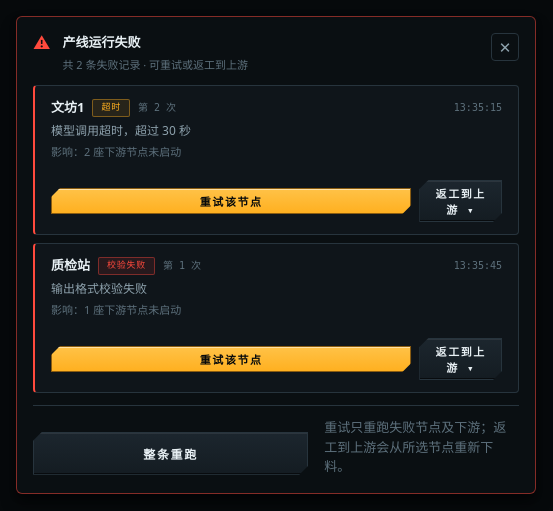
FailurePanel › 返工到上游 › 点击'返工到上游'展开下拉菜单
This screenshot has width=553, height=511.
What coordinates should you click on to do the following:
click the button "返工到上游 ▾" below "影响：2 座下游节点未启动"
I would click on:
 (461, 201)
Its box is [419, 180, 502, 222].
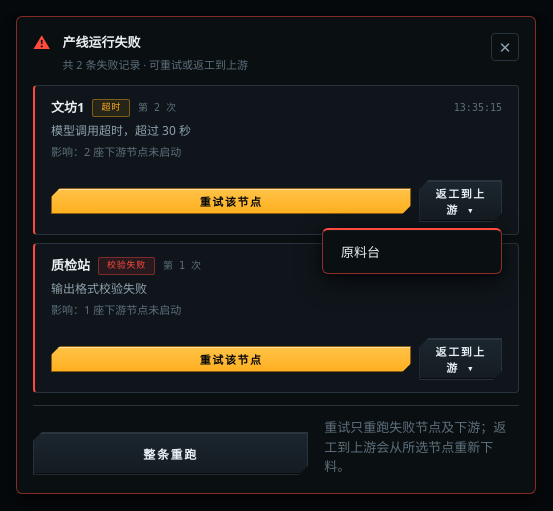
Check: the button "原料台" is shown, box [327, 234, 497, 269]
